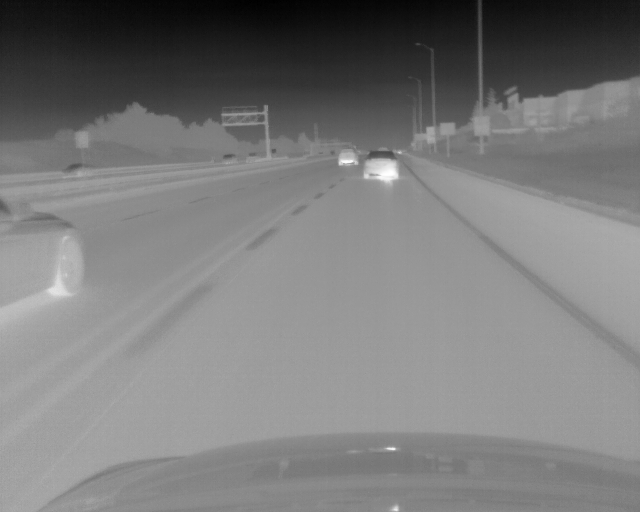car: (1, 195, 86, 309), (362, 148, 401, 180), (337, 148, 359, 166), (63, 163, 92, 172), (222, 154, 236, 161)
